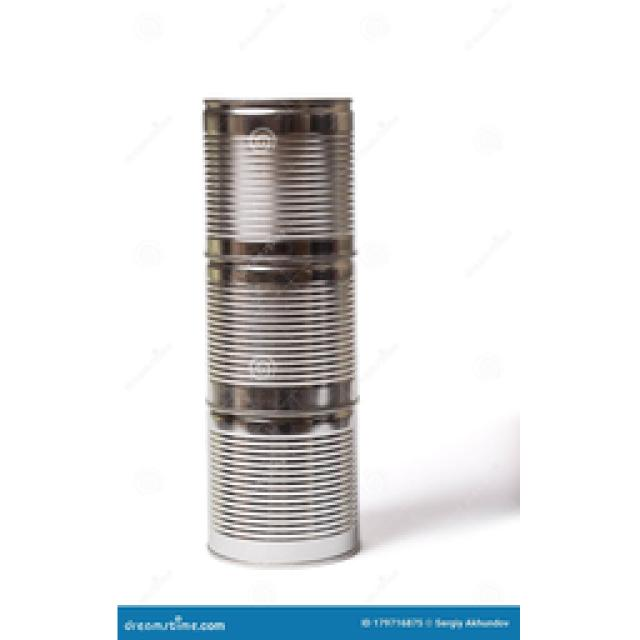alumunium: (202, 98, 358, 562)
